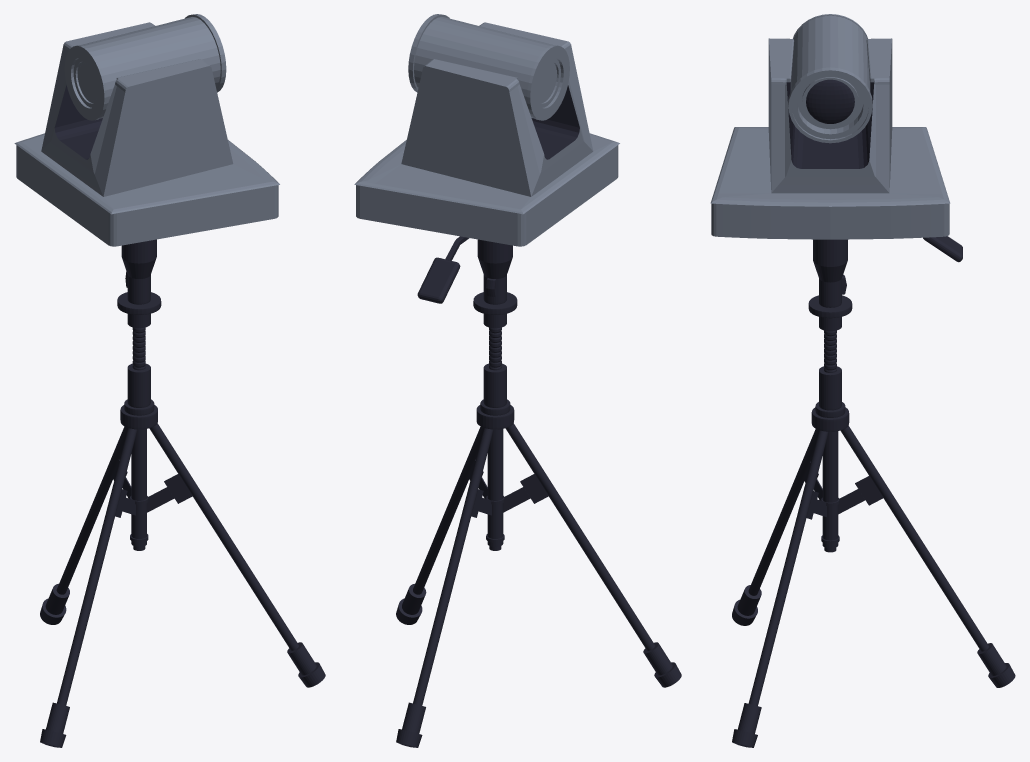
Rendered from cameratripod.fbx.
3 renders of one model, left to right at view 1: azimuth 30°, elevation 25°; view 2: azimuth 150°, elevation 25°; view 3: azimuth 270°, elevation 25°, orthographic.
Parts seen in each view (by area): view 1: Cube, Cylinder.003, Cylinder, Cylinder.001, Cylinder.002; view 2: Cube, Cylinder.003, Cylinder, Cylinder.001, Cylinder.002, Cube.002; view 3: Cube, Cylinder.003, Cylinder, Cylinder.001, Cylinder.002, Sphere, Cube.002.
Part boxes in pixels (left/top/right/bottom): Cube: left=14, top=22, right=279, bottom=246; Cylinder.003: left=40, top=423, right=325, bottom=747; Cylinder: left=64, top=14, right=226, bottom=120; Cylinder.001: left=117, top=239, right=161, bottom=429; Cylinder.002: left=130, top=429, right=148, bottom=550; Cube: left=354, top=22, right=619, bottom=246; Cylinder.003: left=396, top=423, right=681, bottom=747; Cylinder: left=408, top=14, right=569, bottom=120; Cylinder.001: left=473, top=239, right=517, bottom=429; Cylinder.002: left=486, top=429, right=504, bottom=550; Cube.002: left=417, top=236, right=469, bottom=303; Cube: left=710, top=38, right=950, bottom=239; Cylinder.003: left=732, top=425, right=1015, bottom=747; Cylinder: left=788, top=14, right=872, bottom=143; Cylinder.001: left=808, top=239, right=852, bottom=431; Cylinder.002: left=821, top=431, right=839, bottom=552; Sphere: left=806, top=79, right=854, bottom=123; Cube.002: left=923, top=236, right=962, bottom=262.
Size of the model in its own units: 44.71 by 98.73 by 42.1.
